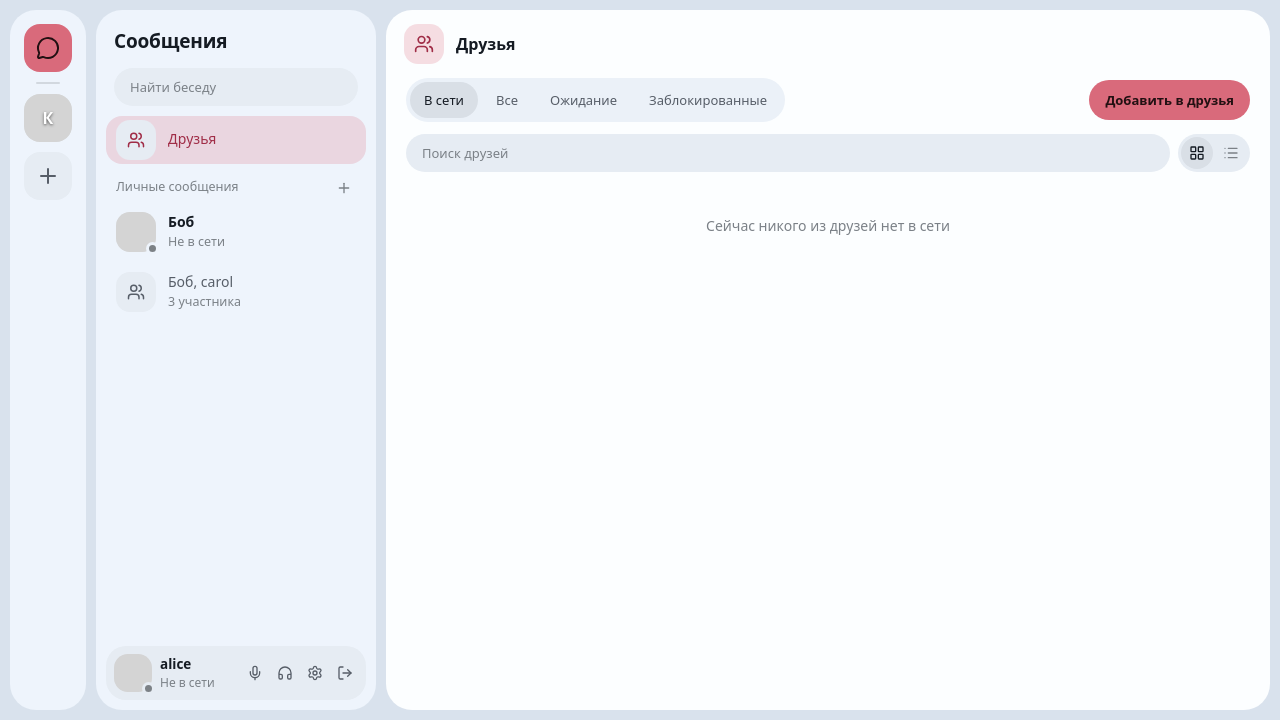
Test: adding a server › previews the server icon from its name
Click the button named "Добавить сервер" at (48, 176), box [24,152,72,200]
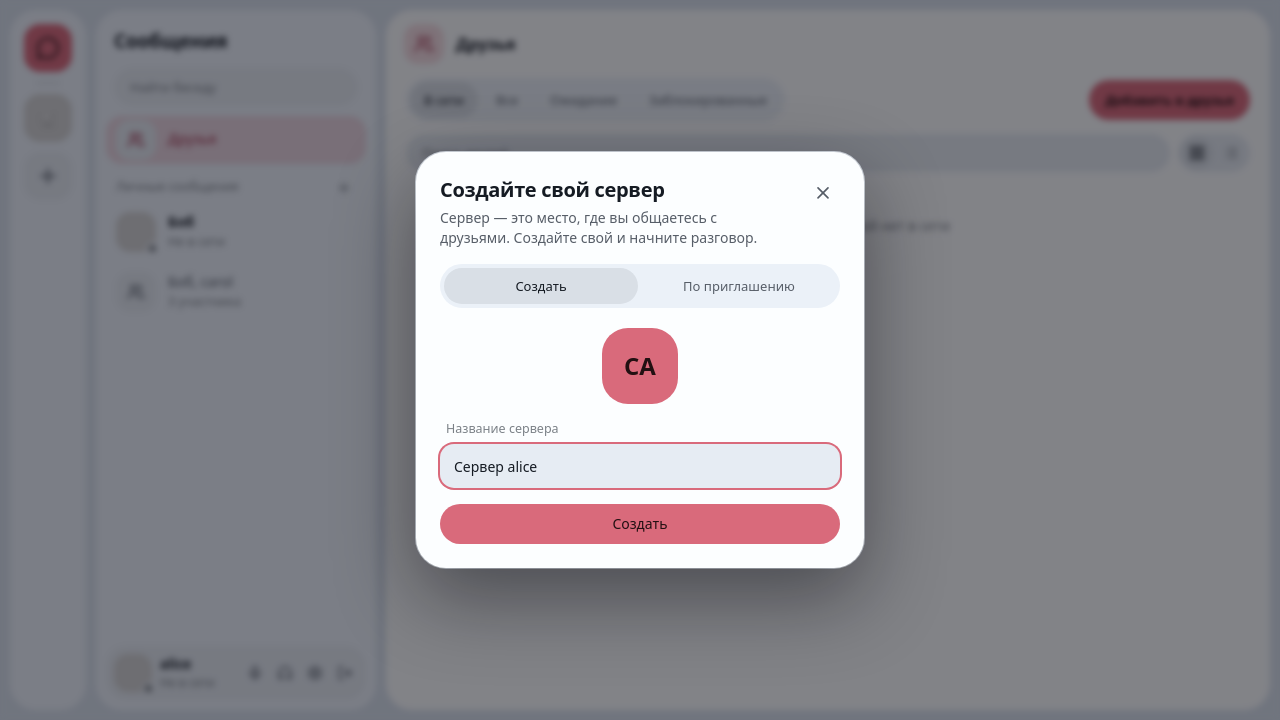
Replace the text in the field labelled "Название сервера" with "Книжный клуб" at (640, 466), box [440,444,840,488]
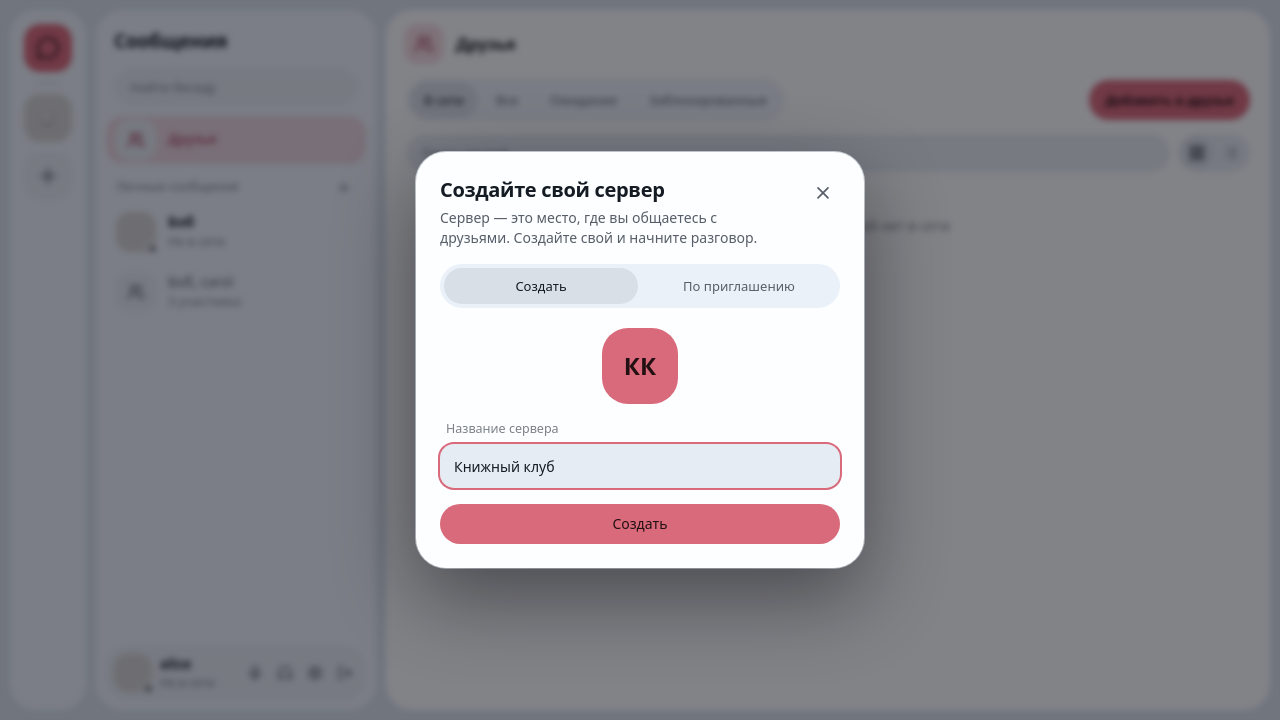
Result: the text with test id "guild-icon-preview" reads "КК" at [624,349,656,382]
